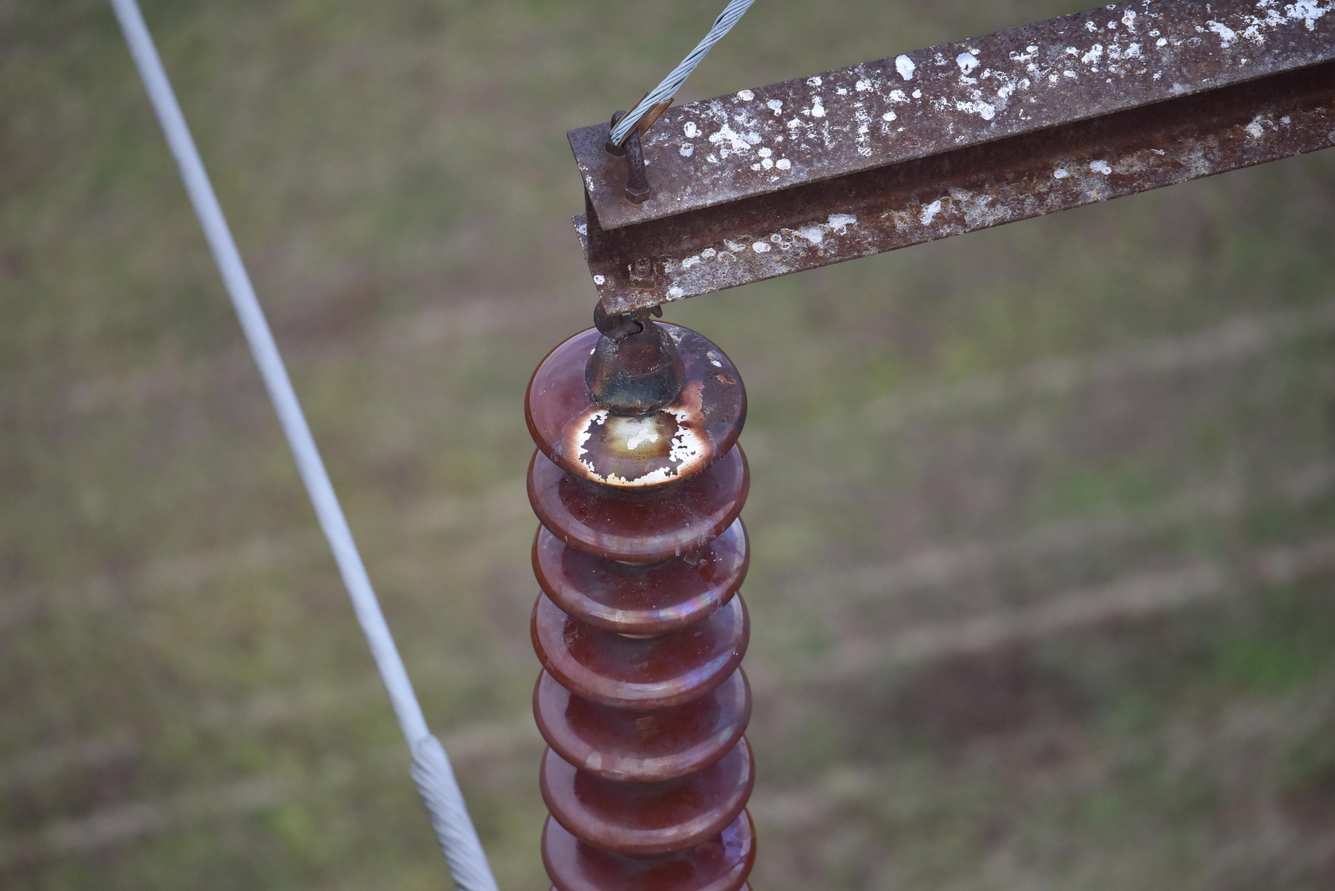Flashover: (561, 395, 717, 487)
insulator: (523, 321, 762, 891)
